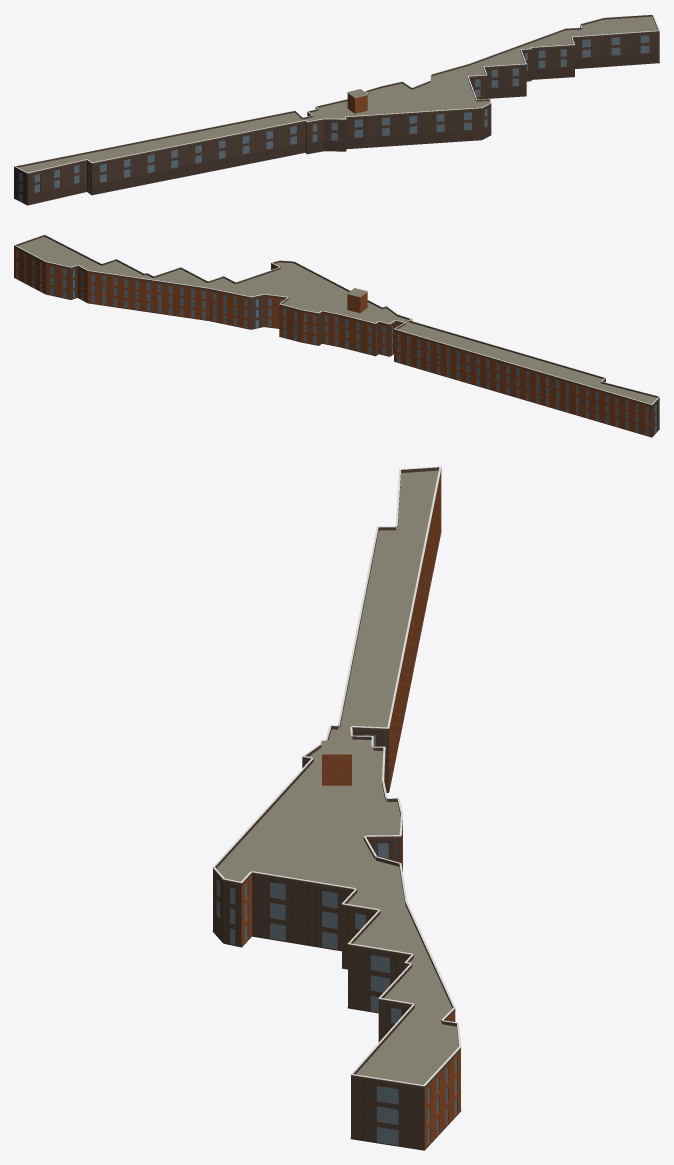
The picture shows the model from 3 angles, top to bottom: view 1: azimuth 30°, elevation 25°; view 2: azimuth 150°, elevation 25°; view 3: azimuth 270°, elevation 25°; orthographic projection. The views are drawn at different scales.
Parts seen in each view (by area): view 1: artDesignValley__wall, artDesignValley__roof, artDesignValley__base, artDesignValley__glass, artDesignValley__parapet, artDesignValley__trim, artDesignValley__wall2; view 2: artDesignValley__wall2, artDesignValley__roof, artDesignValley__glass, artDesignValley__parapet, artDesignValley__trim, artDesignValley__wall, artDesignValley__frame, artDesignValley__base; view 3: artDesignValley__roof, artDesignValley__wall, artDesignValley__wall2, artDesignValley__glass, artDesignValley__trim, artDesignValley__parapet.
Boxes of the visible parts, x1,y1,x2,y2 form: artDesignValley__wall: [14, 26, 659, 205]; artDesignValley__roof: [18, 16, 657, 172]; artDesignValley__base: [14, 53, 659, 205]; artDesignValley__glass: [19, 35, 649, 201]; artDesignValley__parapet: [14, 15, 659, 174]; artDesignValley__trim: [14, 14, 659, 173]; artDesignValley__wall2: [347, 93, 367, 113]; artDesignValley__wall2: [14, 247, 652, 437]; artDesignValley__roof: [17, 236, 656, 404]; artDesignValley__glass: [17, 250, 656, 435]; artDesignValley__parapet: [14, 235, 659, 406]; artDesignValley__trim: [14, 234, 659, 404]; artDesignValley__wall: [71, 267, 659, 436]; artDesignValley__frame: [18, 251, 647, 434]; artDesignValley__base: [14, 277, 659, 437]; artDesignValley__roof: [216, 470, 458, 1084]; artDesignValley__wall: [213, 730, 424, 1150]; artDesignValley__wall2: [241, 471, 460, 1149]; artDesignValley__glass: [217, 734, 456, 1144]; artDesignValley__trim: [212, 466, 461, 1086]; artDesignValley__parapet: [213, 467, 460, 1089].
Size of the model in its own units: 247 by 17.4 by 41.85.
8 materials, 2 textured.
